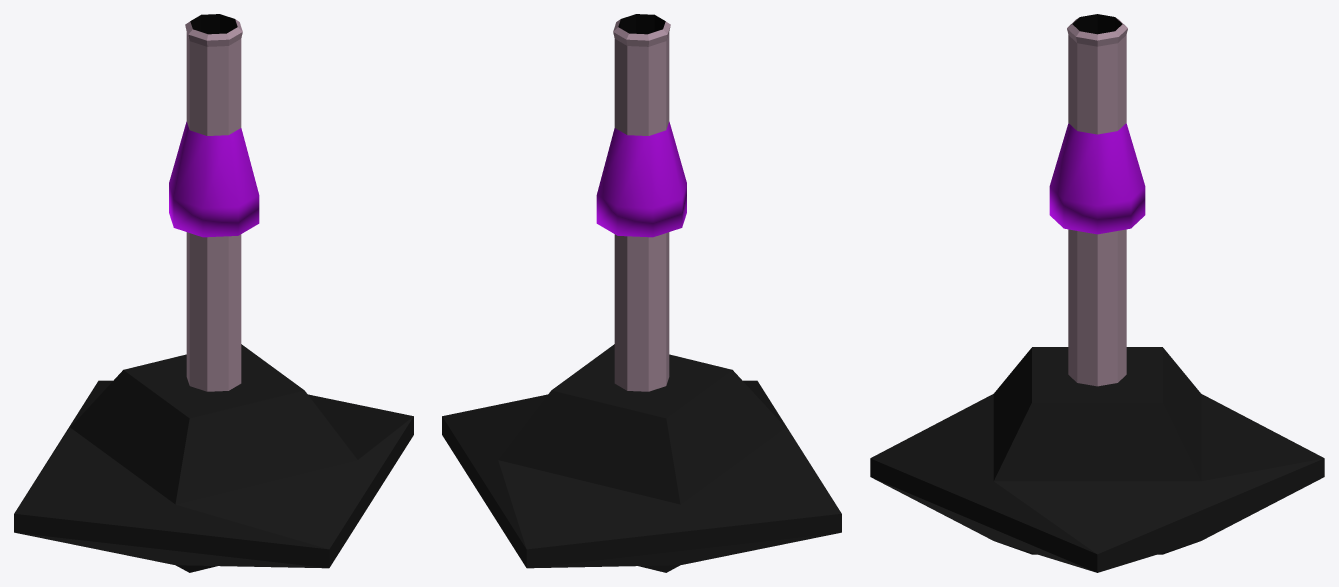
File: SmallTurret.fbx
3 views of the same model, side by side, from view 1: azimuth 30°, elevation 25°; view 2: azimuth 150°, elevation 25°; view 3: azimuth 270°, elevation 25° (orthographic).
Visible parts, largest first — view 1: Base, Turret, BarrelInside; view 2: Base, Turret, BarrelInside; view 3: Base, Turret, BarrelInside.
Boxes of the visible parts, x1=… form: Base: x1=14, y1=344, x2=413, y2=572; Turret: x1=169, y1=19, x2=259, y2=391; BarrelInside: x1=190, y1=14, x2=237, y2=34; Base: x1=442, y1=344, x2=841, y2=572; Turret: x1=596, y1=19, x2=686, y2=391; BarrelInside: x1=618, y1=14, x2=665, y2=34; Base: x1=870, y1=347, x2=1324, y2=572; Turret: x1=1049, y1=18, x2=1145, y2=386; BarrelInside: x1=1072, y1=14, x2=1122, y2=34.
Bounding box in the file's own units: 695 × 849 × 695.
